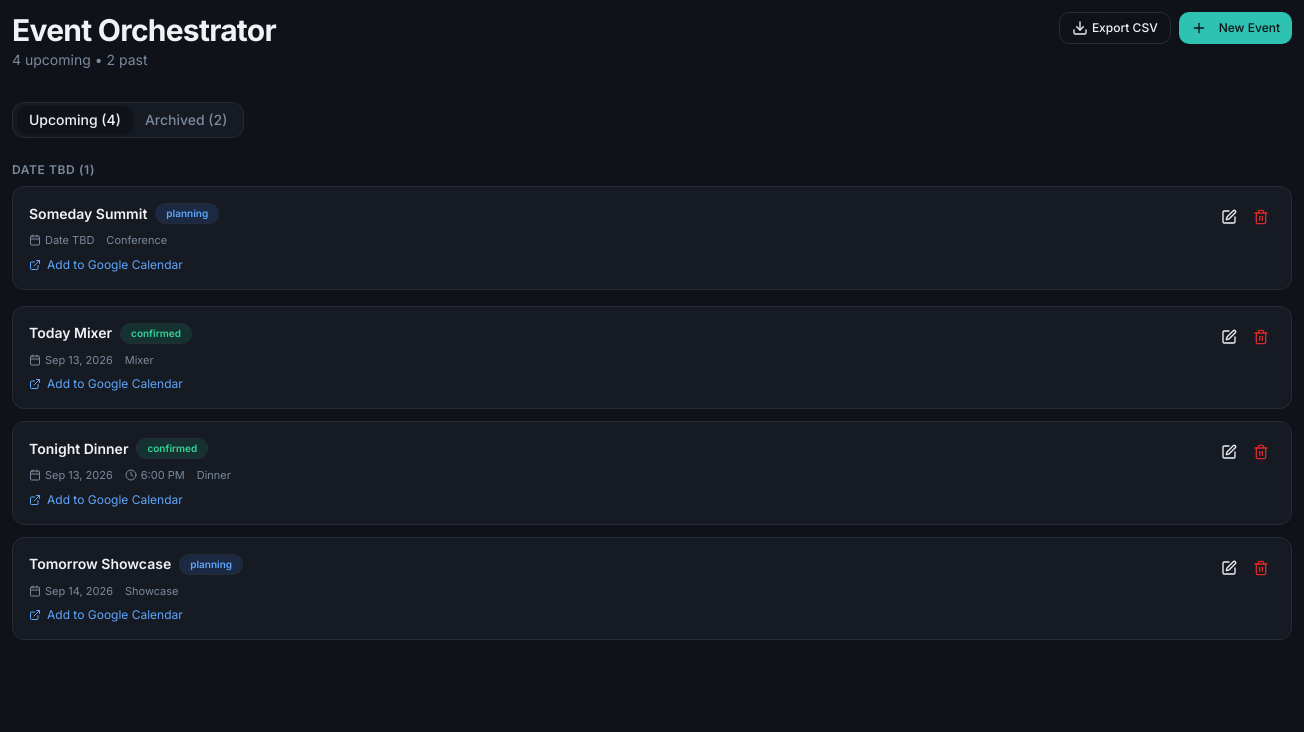
Event upcoming / archived split › archives yesterday, and today once its own time has gone by
Expected: the text "Today Mixer" is shown, [29,323,112,343]
Radix switches tabs on pointer down, not on click.
Press the mouse on the tab "Archived (2)" at (186, 120), box [133,106,239,134]
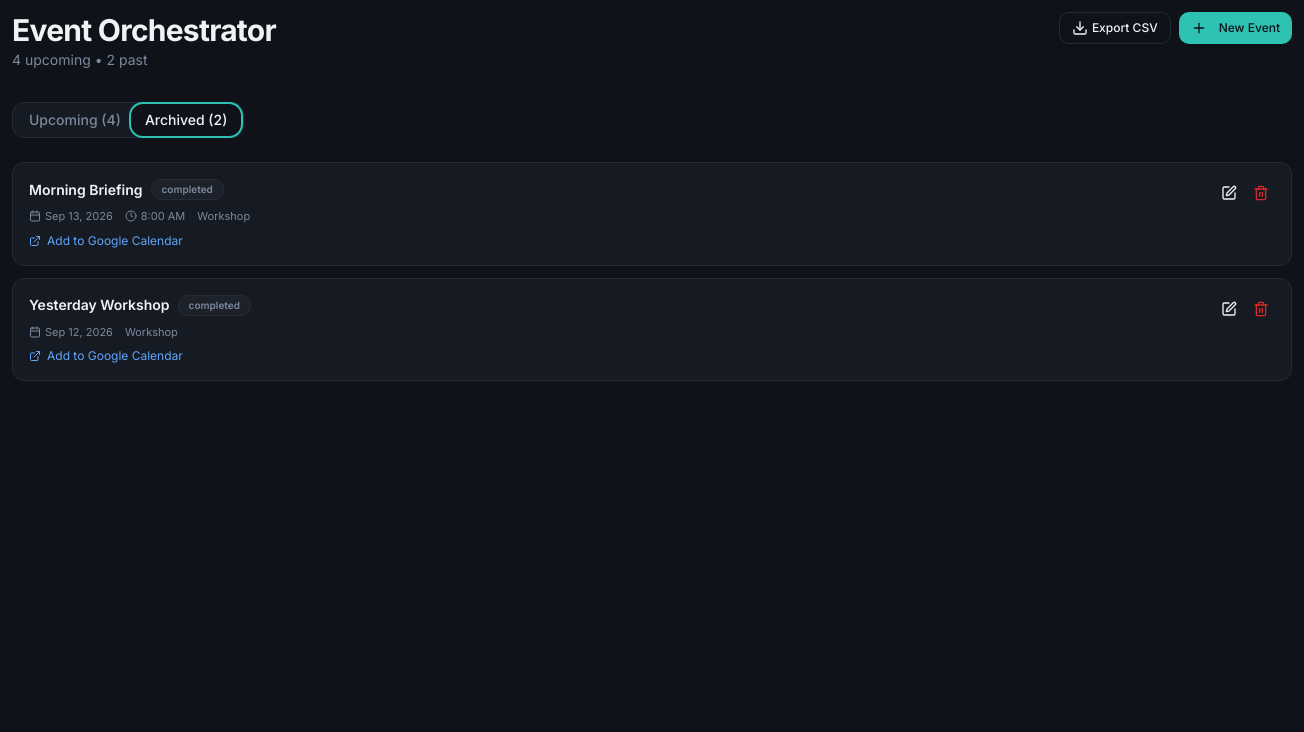
Result: the text "Yesterday Workshop" is shown at [29,295,170,315]
Result: the text "Morning Briefing" is shown at [29,180,142,200]
Result: the text "Today Mixer" is gone
